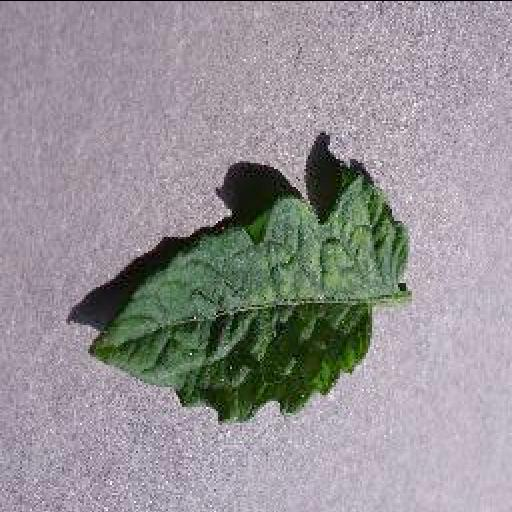disease_tomato: (86, 168, 414, 426)
